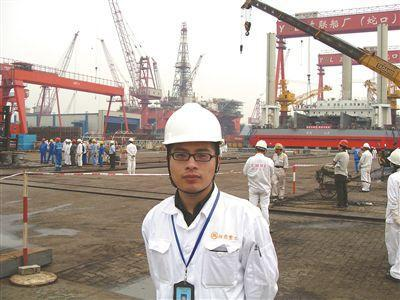helmet: (155, 98, 228, 195), (251, 138, 270, 158), (388, 145, 399, 177), (337, 138, 350, 153)
